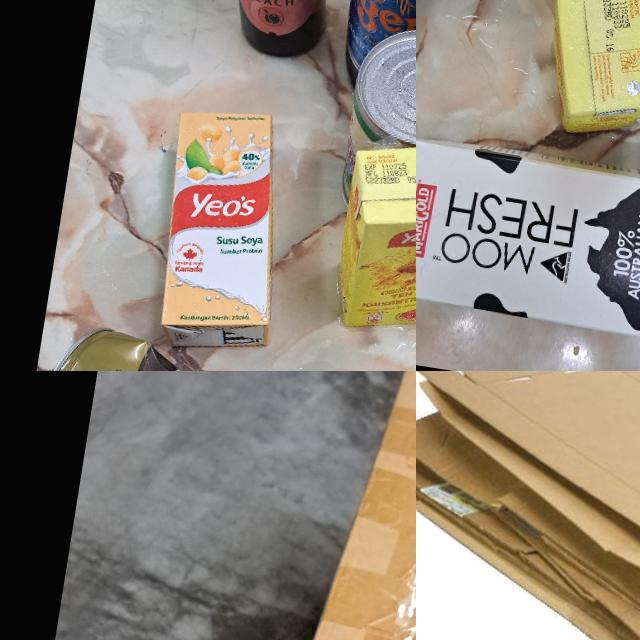caixinha: (416, 125, 640, 357), (138, 105, 303, 357), (321, 125, 416, 347), (530, 0, 640, 142)
garrafa de vidro: (187, 0, 349, 74), (325, 0, 416, 119)
lata: (23, 317, 325, 371), (342, 19, 416, 221)
papelão: (416, 371, 640, 640), (237, 371, 416, 640)
